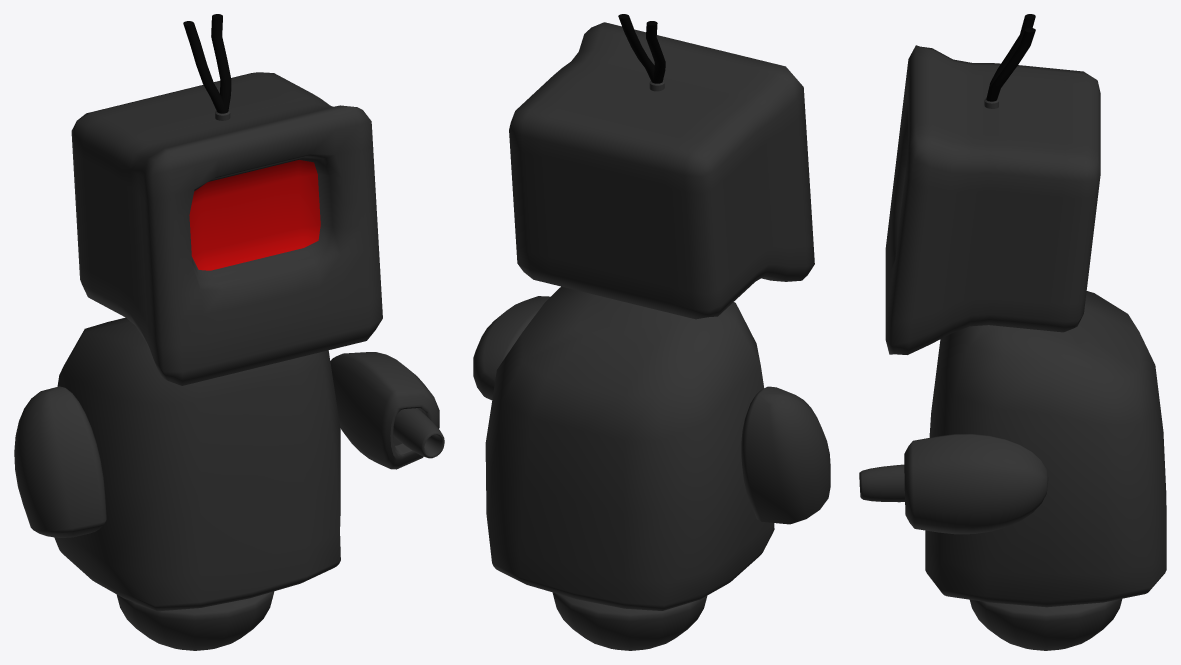
Rendered from Enemy Static.fbx.
3 views of the same model, side by side, from view 1: azimuth 30°, elevation 25°; view 2: azimuth 150°, elevation 25°; view 3: azimuth 270°, elevation 25° (orthographic).
Visible parts, largest first — view 1: Head, Body, RightArm, Blaster, Hoverpart; view 2: Body, Head, RightArm, Hoverpart, Blaster; view 3: Head, Body, Blaster, Hoverpart.
Boxes of the visible parts, bbox=[...] form: Head: bbox=[71, 14, 382, 385]; Body: bbox=[54, 317, 340, 611]; RightArm: bbox=[14, 386, 106, 537]; Blaster: bbox=[330, 352, 444, 469]; Hoverpart: bbox=[116, 591, 274, 650]; Body: bbox=[485, 286, 774, 610]; Head: bbox=[509, 14, 814, 319]; RightArm: bbox=[741, 386, 830, 524]; Hoverpart: bbox=[552, 592, 707, 650]; Blaster: bbox=[473, 296, 550, 400]; Head: bbox=[885, 14, 1100, 354]; Body: bbox=[925, 291, 1166, 607]; Blaster: bbox=[859, 433, 1048, 534]; Hoverpart: bbox=[970, 599, 1122, 650].
Size of the model in its own units: 4.94 by 8.12 by 3.65.
